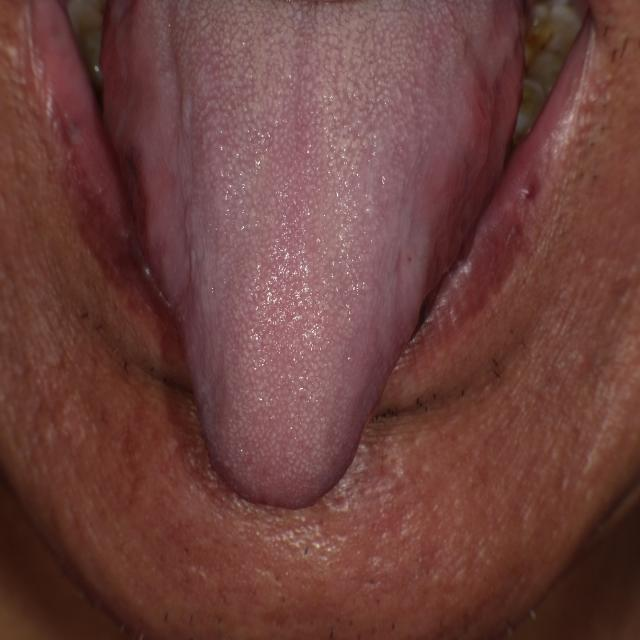baitaishe: (99, 1, 523, 508)
gandanao: (99, 7, 209, 355)
